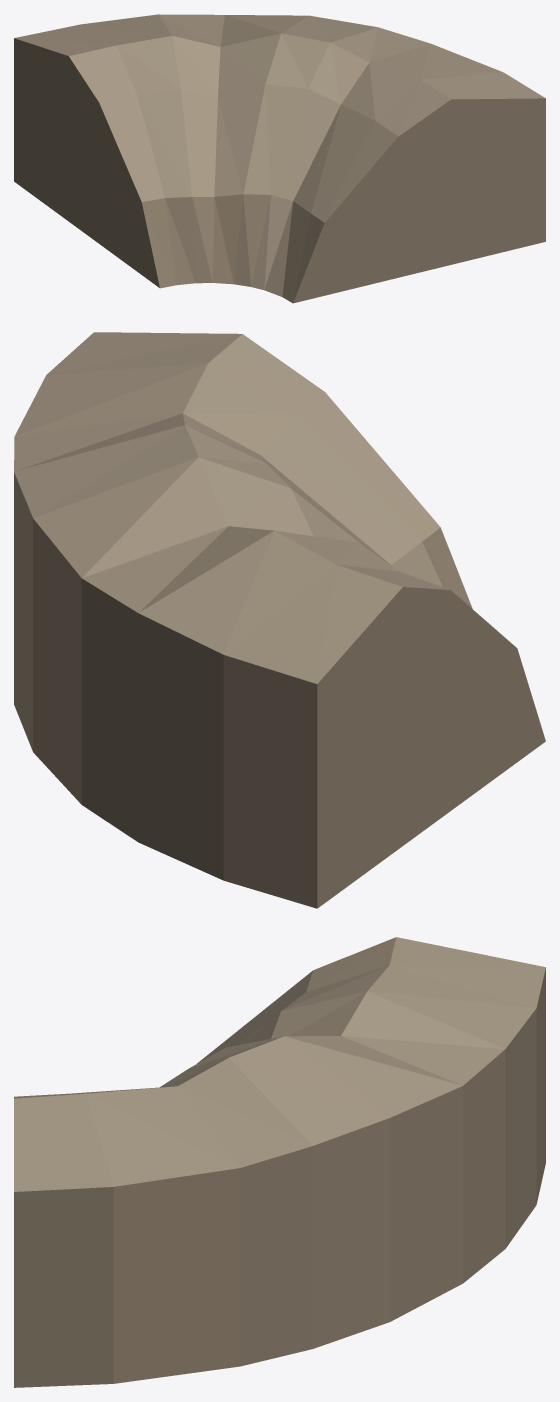
File: coast_rock_inner_low.glb
The picture shows the model from 3 angles, top to bottom: view 1: azimuth 30°, elevation 25°; view 2: azimuth 150°, elevation 25°; view 3: azimuth 270°, elevation 25°; orthographic projection. The views are drawn at different scales.
Visible parts, largest first — view 1: coast_rock_inner_low; view 2: coast_rock_inner_low; view 3: coast_rock_inner_low.
Part boxes in pixels (x1,y1,x2,y2): coast_rock_inner_low: [14, 14, 545, 303]; coast_rock_inner_low: [14, 332, 545, 908]; coast_rock_inner_low: [14, 937, 545, 1387].
Bounding box in the file's own units: 1.6 × 0.8 × 1.6.
